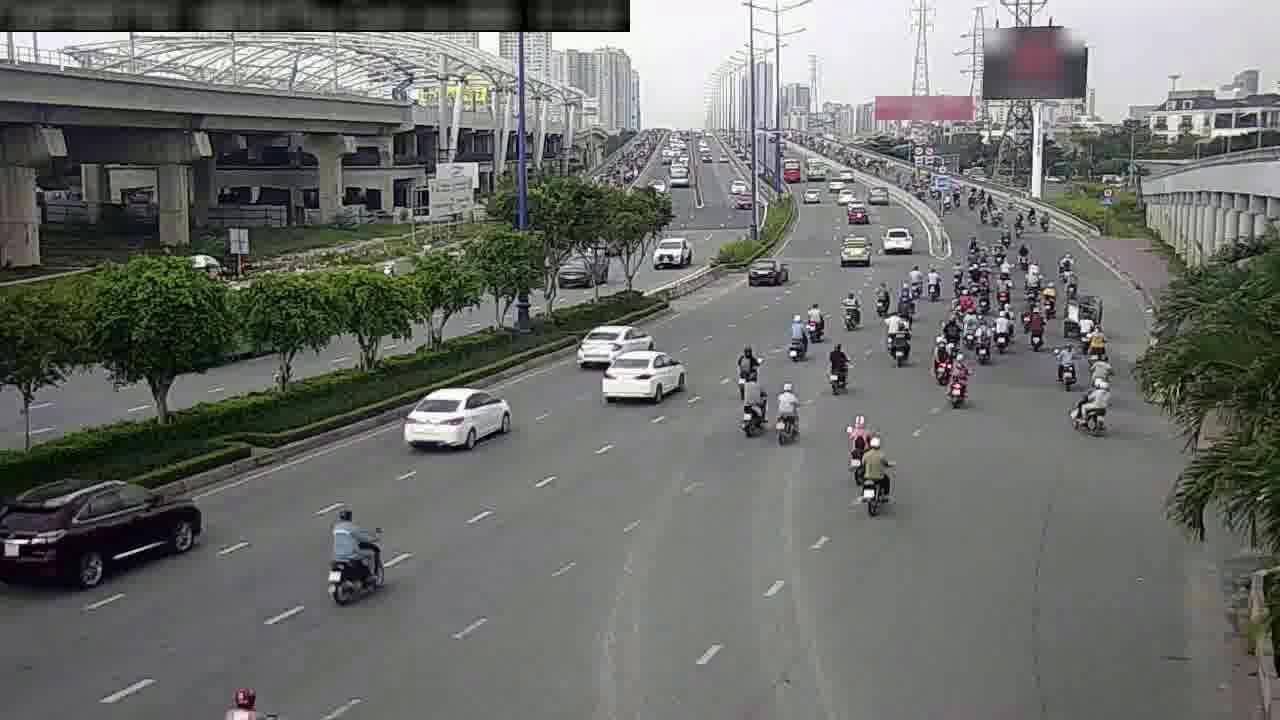container: (4, 478, 204, 586), (401, 376, 510, 454), (606, 344, 679, 400), (577, 317, 647, 370), (742, 252, 790, 291), (877, 220, 916, 252), (834, 235, 872, 267)
motorbike: (318, 503, 393, 609), (848, 437, 897, 513), (1063, 374, 1109, 436), (766, 380, 804, 445), (836, 415, 875, 477), (733, 373, 769, 438), (820, 339, 855, 394), (939, 357, 974, 410), (780, 312, 812, 363), (729, 339, 761, 389), (1049, 340, 1081, 388), (1089, 342, 1119, 387), (1021, 309, 1050, 353), (836, 290, 866, 332), (968, 321, 996, 365), (1081, 321, 1109, 365), (801, 298, 828, 342), (990, 310, 1016, 353), (939, 305, 966, 344), (930, 340, 955, 382), (921, 266, 946, 302), (894, 276, 918, 313), (869, 279, 893, 315), (892, 320, 910, 368), (883, 306, 901, 354), (992, 276, 1014, 310), (952, 279, 974, 313), (1037, 279, 1058, 313), (945, 260, 966, 291), (1062, 268, 1083, 298), (1062, 298, 1079, 331)
